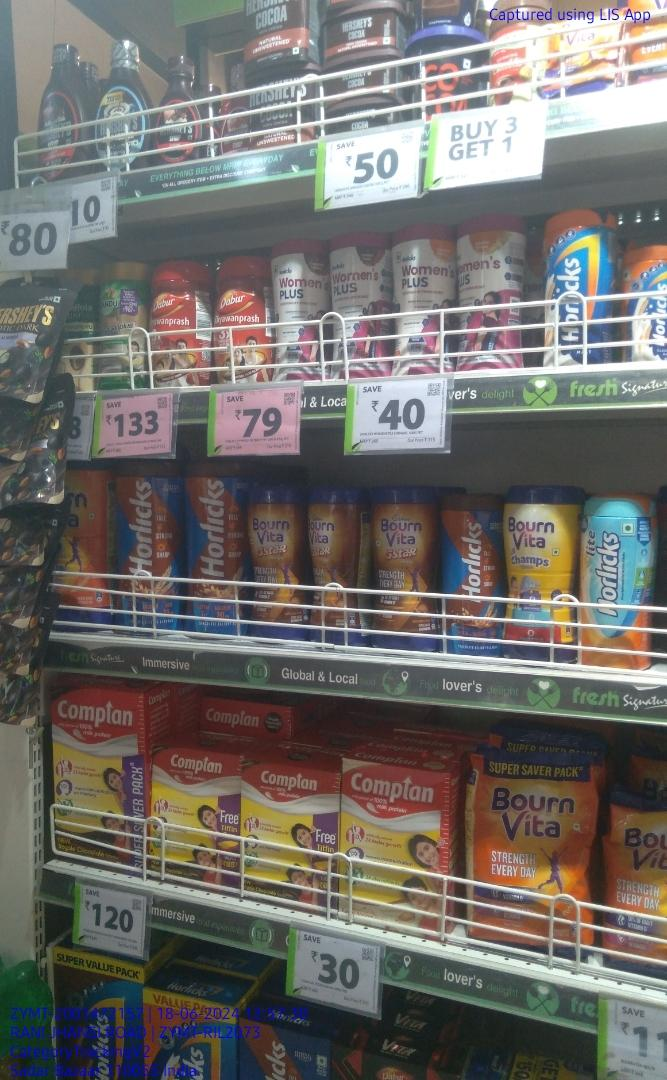BOURN_VITA_1_KG_POUCH: (470, 744, 594, 957)
BOURN_VITA_CHAMPS_500_G_JAR: (503, 483, 576, 660)
BOURN_VITA_FIVE_STAR_MAGIC_500_G_JAR: (370, 488, 437, 650), (309, 490, 360, 651), (250, 489, 302, 640)
COMPLAN_CHOCOLATE_1_KG_PACK: (53, 691, 147, 863)
COMPLAN_CHOCOLATE_500_GMS_PACK: (242, 769, 338, 916), (156, 751, 240, 886)
COMPLAN_KESAR_BADAM_500_GMS_PACK: (345, 763, 449, 936)
HORLICKS_LITE_REGULAR_MALT_500_GM_JAR: (580, 493, 654, 672)
HORLICK_CHOCOLATE_1_KG_JAR: (114, 456, 183, 633), (184, 453, 245, 633)
HORLICK_CHOCOLATE_500_G_JAR: (440, 493, 502, 654)
HORLICK_CLASSIC_MALT_200_G_JAR: (619, 245, 667, 365)
HORLICK_CLASSIC_MALT_500_G_JAR: (536, 207, 606, 368)
